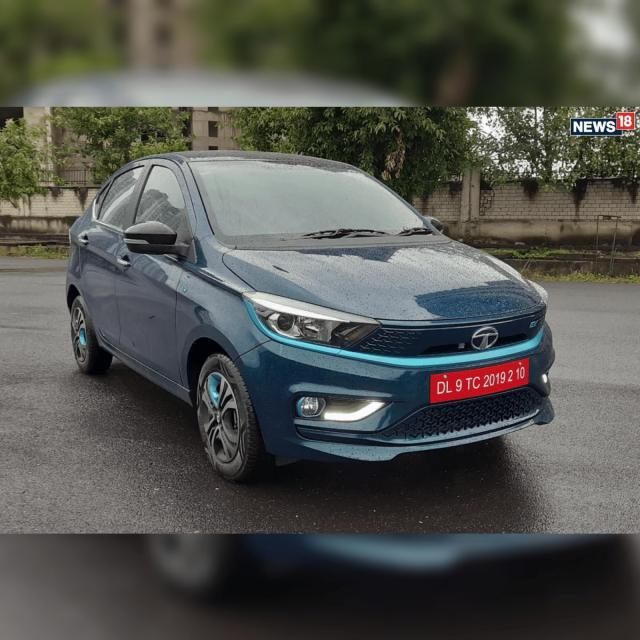plate: (427, 356, 531, 403)
